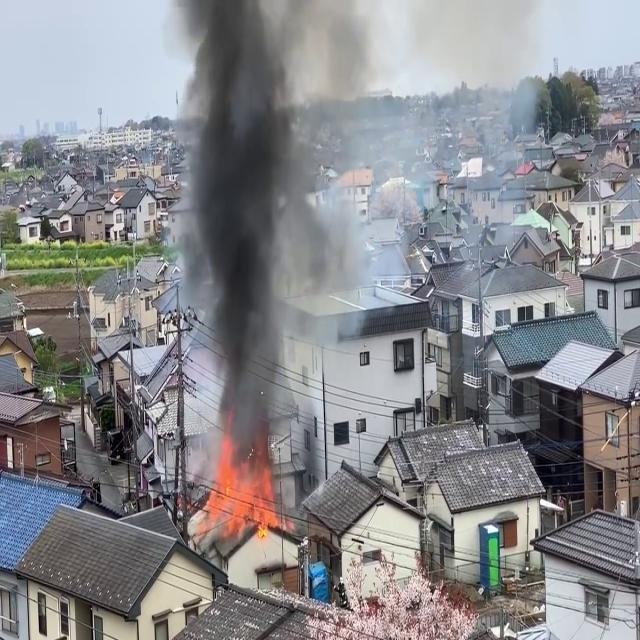Fire: (194, 444, 285, 539)
Smoke: (168, 0, 392, 477), (168, 0, 310, 476)
